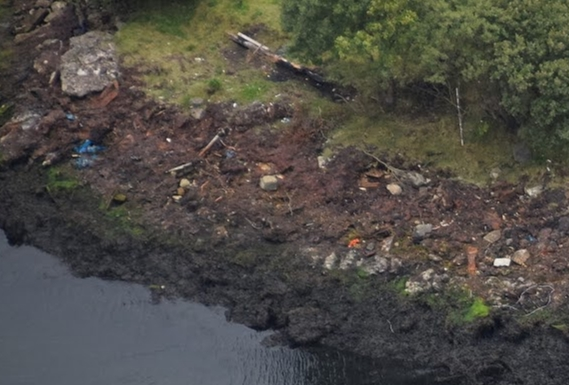scattered_barrel: (55, 107, 291, 207)
straight_bar: (220, 22, 307, 74)
white_in_green: (483, 240, 524, 283)
